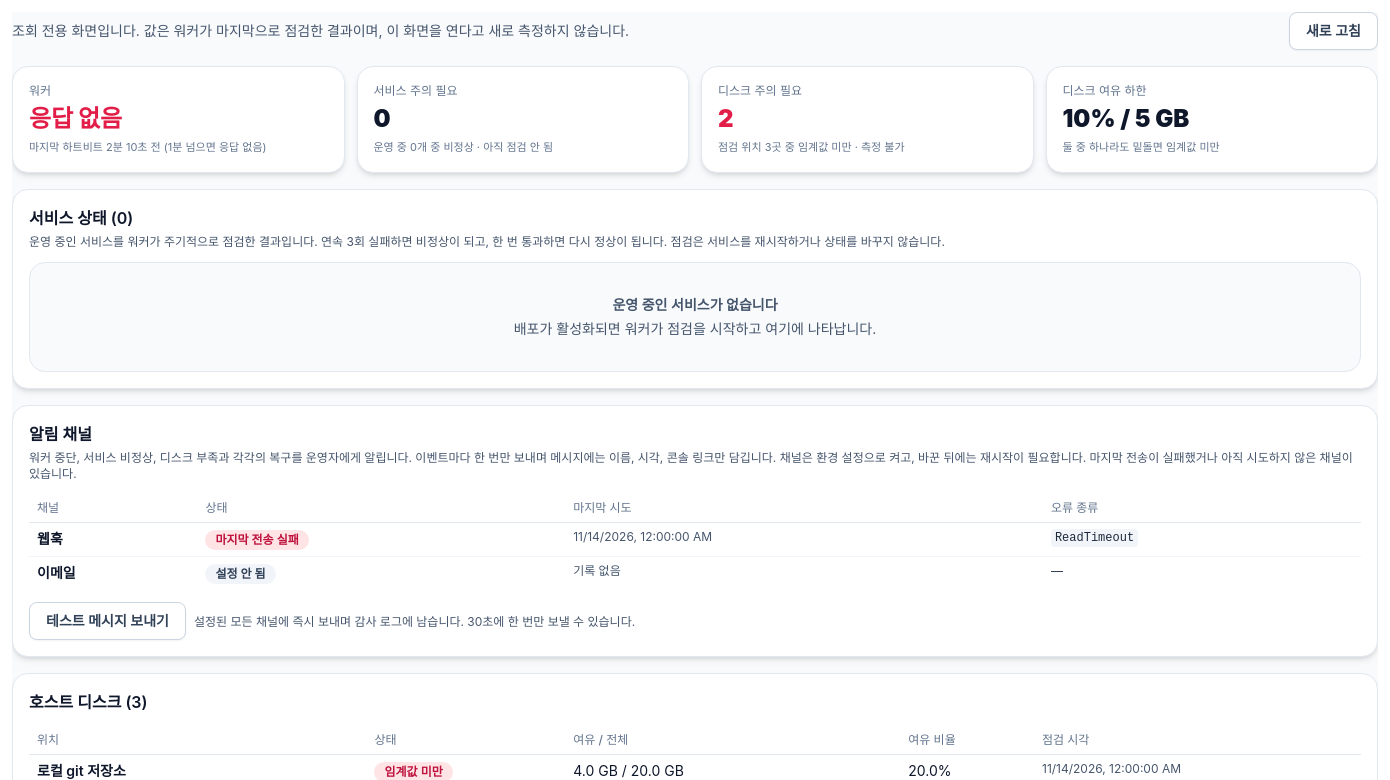
Test: HostHealthPanel — notification channels and the test message › says in words that a second test was refused, not a blank failure
Click the button "테스트 메시지 보내기": (108, 620) [29,602,186,640]
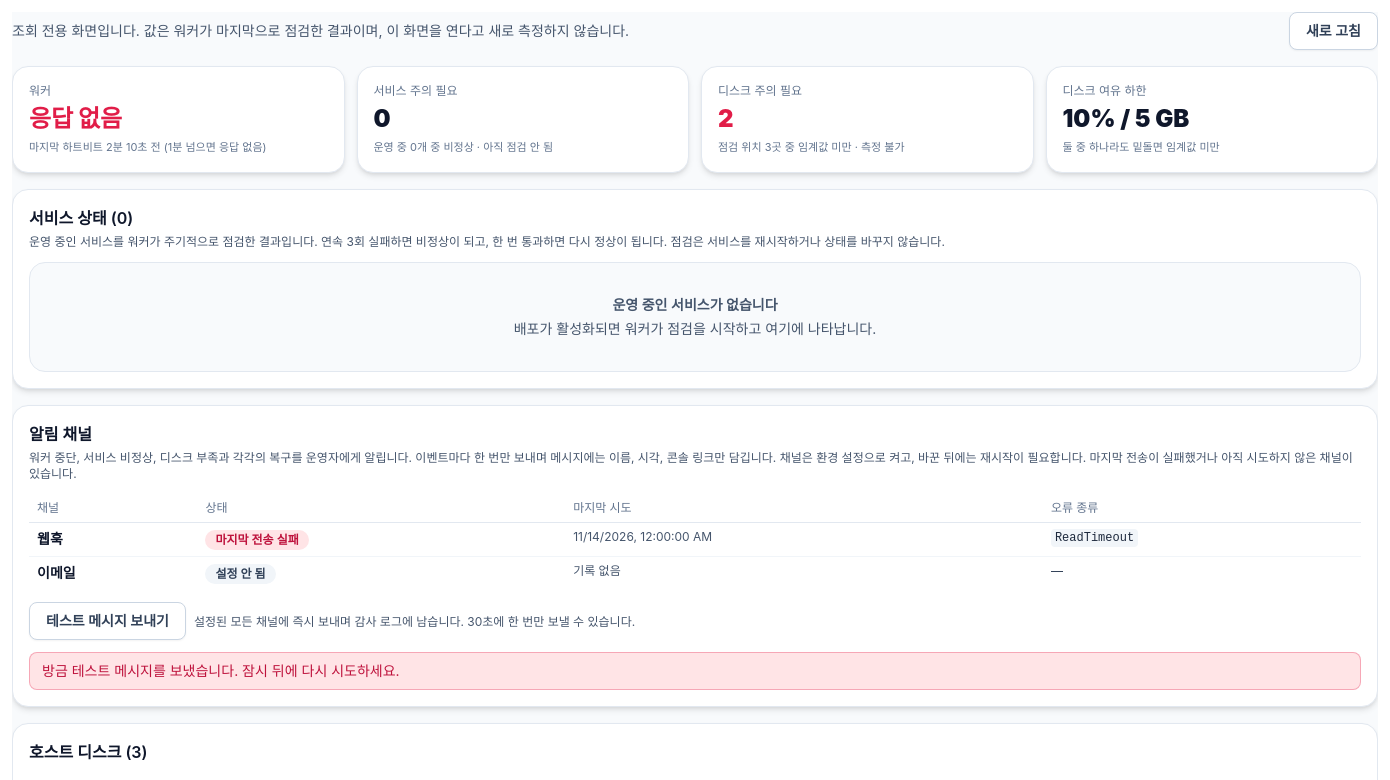
Expected: the text "방금 테스트 메시지를 보냈습니다. 잠시 뒤에 다시 시도하세요." is shown, [29,652,1361,690]
